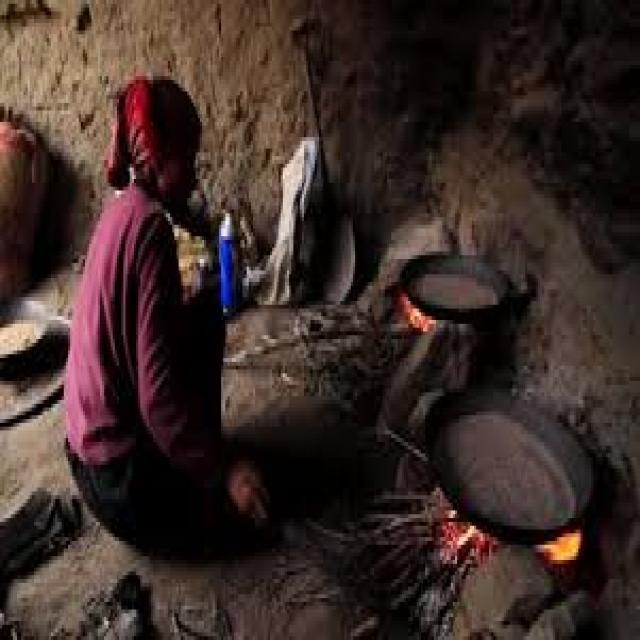fire: (536, 530, 580, 562), (401, 296, 435, 333)
